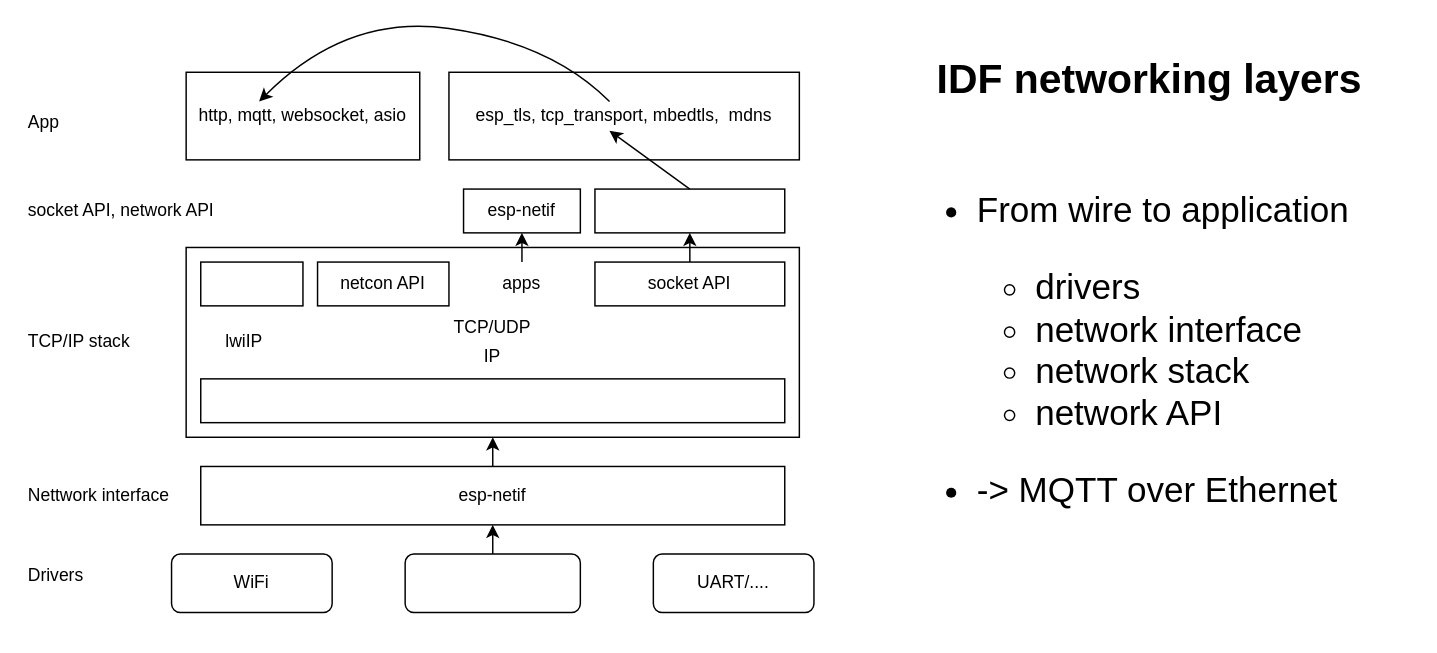
Image size: 1437x653. Some labels were removed from this diagram. Each missing label, with the centre of its shape:
"Ethernet" goes at pixel 492 582.
"netif" goes at pixel 492 400.
"raw API" goes at pixel 251 283.
"socket/vfs" goes at pixel 689 210.
